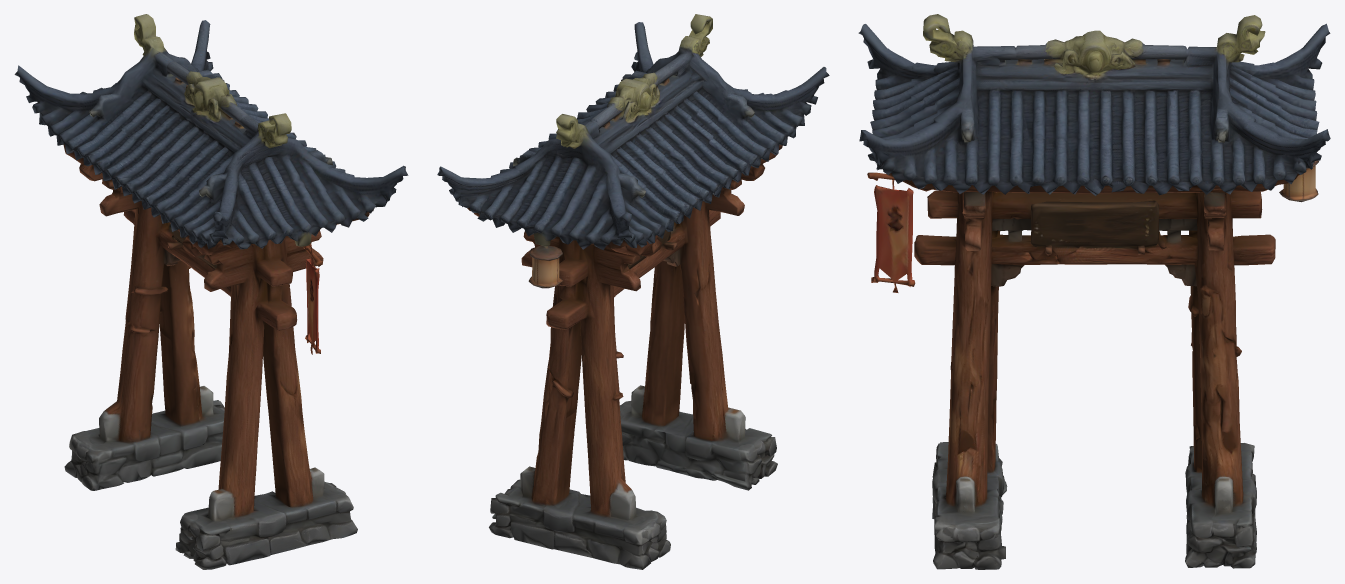
3 views of the same model, side by side, from view 1: azimuth 30°, elevation 25°; view 2: azimuth 150°, elevation 25°; view 3: azimuth 270°, elevation 25° (orthographic). The views are drawn at different scales.
Visible parts, largest first — view 1: tripo_node_e4171ba7-02a6-43c2-91d4-bcab363988e5; view 2: tripo_node_e4171ba7-02a6-43c2-91d4-bcab363988e5; view 3: tripo_node_e4171ba7-02a6-43c2-91d4-bcab363988e5.
Part boxes in pixels (x1,y1,x2,y2): tripo_node_e4171ba7-02a6-43c2-91d4-bcab363988e5: (14, 14, 408, 569); tripo_node_e4171ba7-02a6-43c2-91d4-bcab363988e5: (437, 14, 829, 569); tripo_node_e4171ba7-02a6-43c2-91d4-bcab363988e5: (858, 14, 1330, 569).
Size of the model in its own units: 0.4632 by 1 by 0.842.
Materials: 1 (1 with a texture image).
